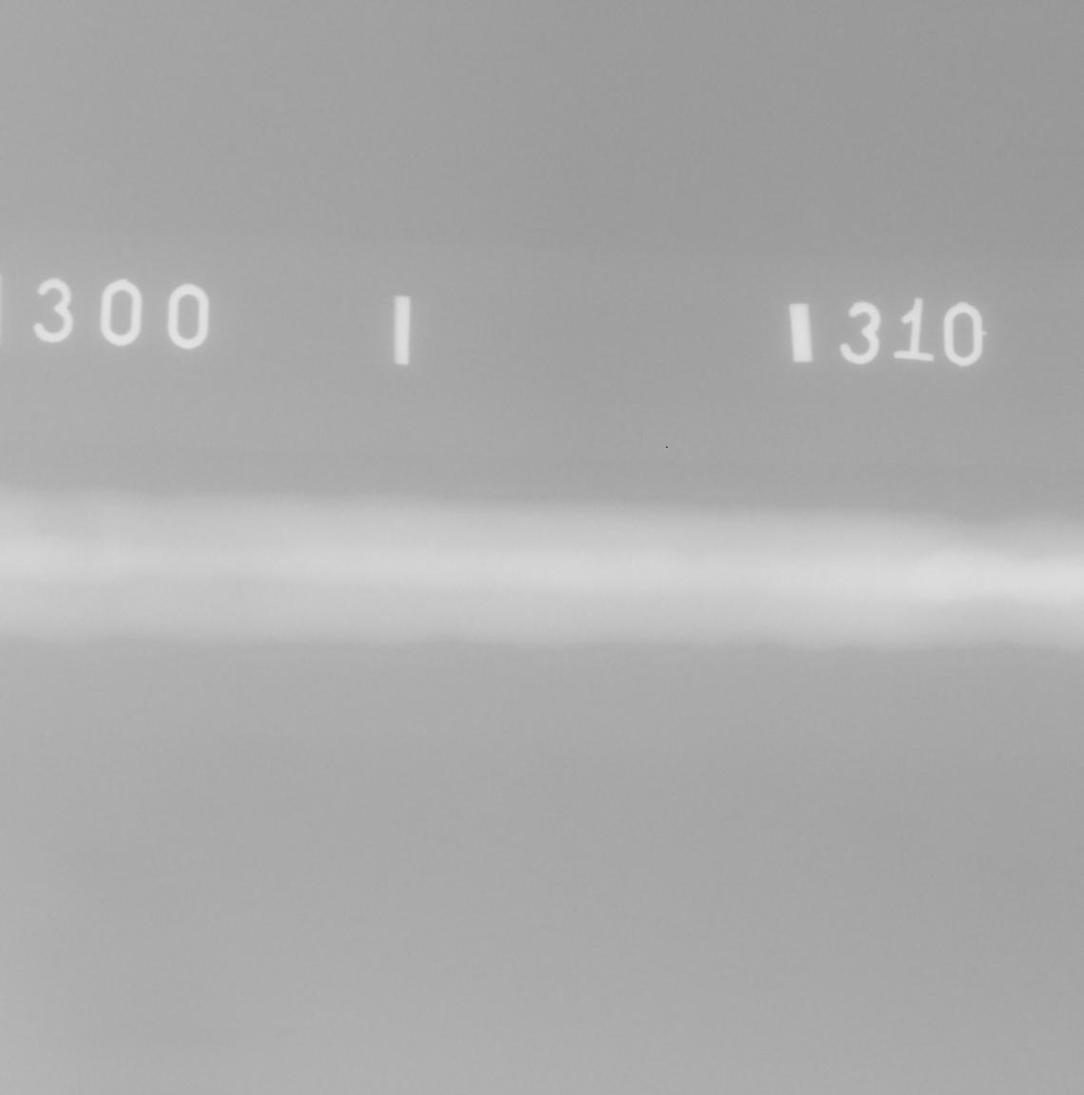Pore/Porosity: (201, 537, 208, 543), (41, 532, 48, 536)
